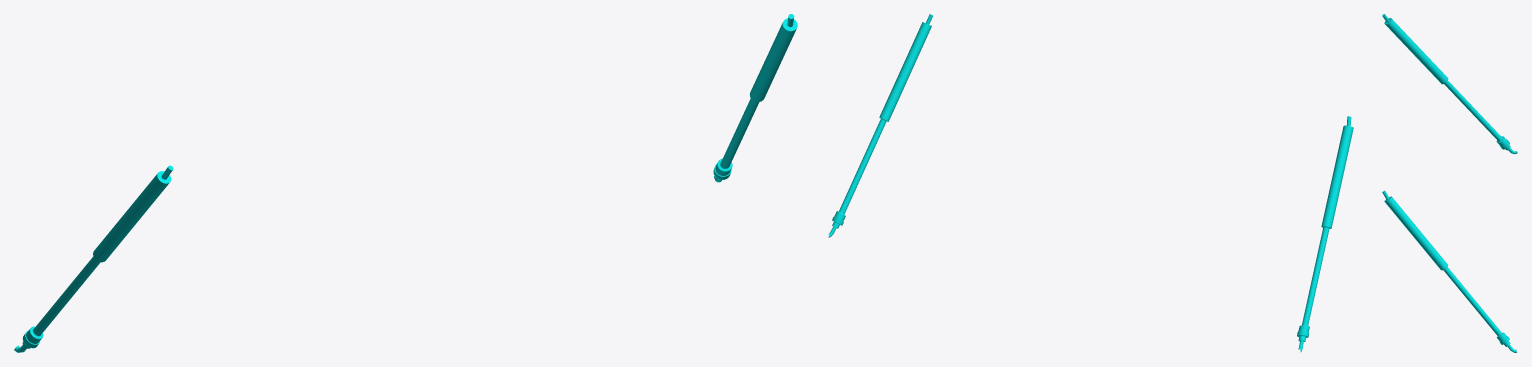
File: TOYOTA_URBAN_CRUISER_PRE_EX_BOOTMECH_MESH.glb
3 views of the same model, side by side, from view 1: azimuth 30°, elevation 25°; view 2: azimuth 150°, elevation 25°; view 3: azimuth 270°, elevation 25° (orthographic). The views are drawn at different scales.
Parts seen in each view (by area): view 1: TOYOTA_URBAN_CRUISER_PRE_EX_BOOTMECH_MESH; view 2: TOYOTA_URBAN_CRUISER_PRE_EX_BOOTMECH_MESH; view 3: TOYOTA_URBAN_CRUISER_PRE_EX_BOOTMECH_MESH.
Part boxes in pixels (bbox=[...]): TOYOTA_URBAN_CRUISER_PRE_EX_BOOTMECH_MESH: bbox=[14, 14, 797, 352]; TOYOTA_URBAN_CRUISER_PRE_EX_BOOTMECH_MESH: bbox=[828, 14, 1353, 352]; TOYOTA_URBAN_CRUISER_PRE_EX_BOOTMECH_MESH: bbox=[1382, 14, 1517, 352].
Bounding box in the file's own units: 1.17 × 0.4113 × 0.3349.
